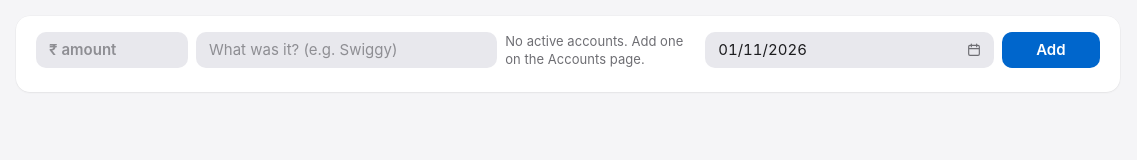
Test: saves once even when Enter is pressed twice
Expected: the dropdown named "Description" is shown, [196,32,497,68]
Type "120" into the field labelled "amount".
click(112, 50); type("120")  # box [36,32,188,68]
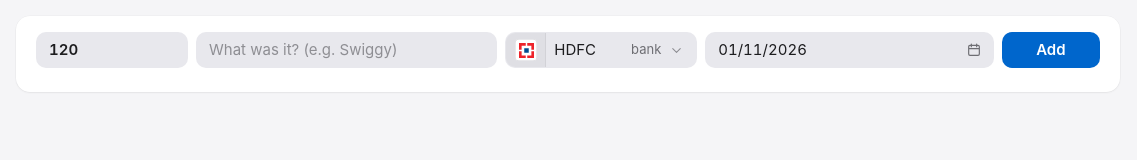
Submit the form named "Quick add", box [16,16,1120,92]
Submit the form named "Quick add", box [16,16,1120,92]
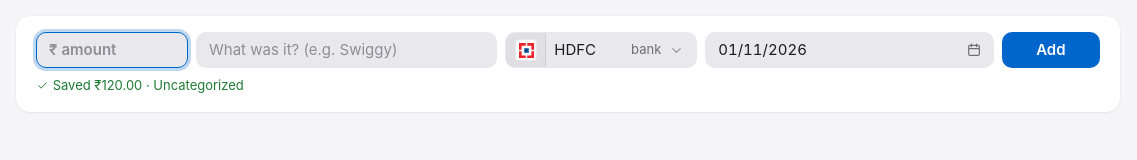
Now the text "Saved ₹120.00 · Uncategorized" is shown, box [36,77,244,93]
